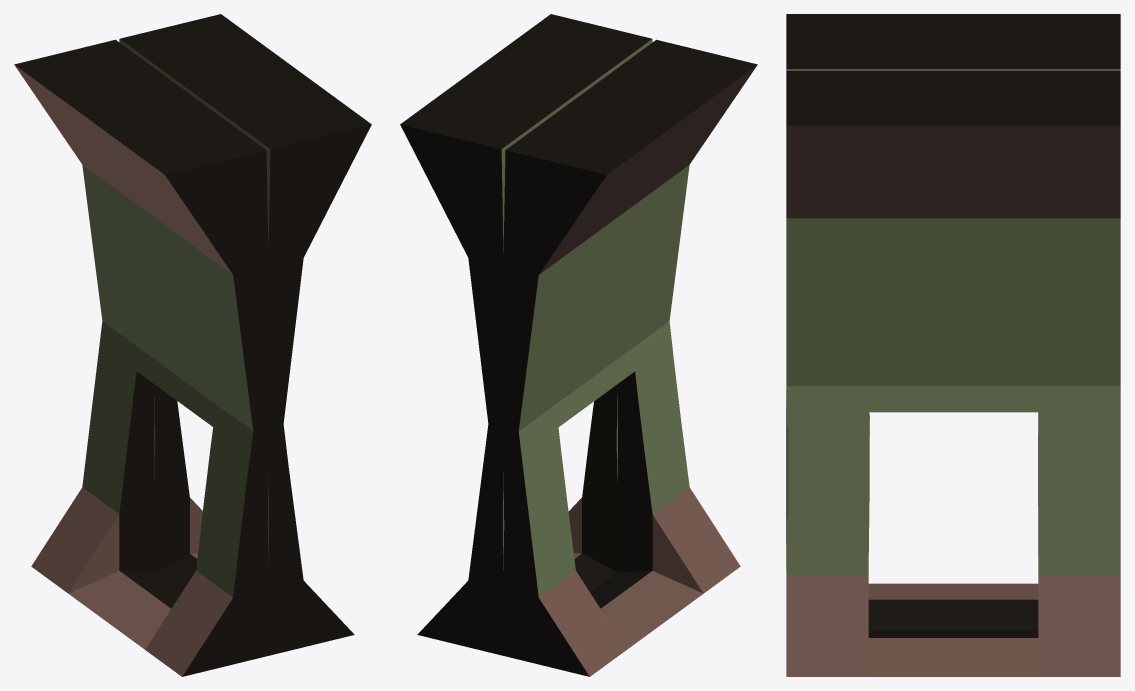
Rendered from doorWall.fbx.
3 renders of one model, left to right at view 1: azimuth 30°, elevation 25°; view 2: azimuth 150°, elevation 25°; view 3: azimuth 270°, elevation 25°, orthographic. The views are drawn at different scales.
Visible parts, largest first — view 1: Cylinder; view 2: Cylinder; view 3: Cylinder.
Boxes of the visible parts, x1,y1,x2,y2 form: Cylinder: (14,14,371,676); Cylinder: (400,14,757,676); Cylinder: (786,14,1120,676).
Size of the model in its own units: 3.42 by 7.99 by 4.32.
